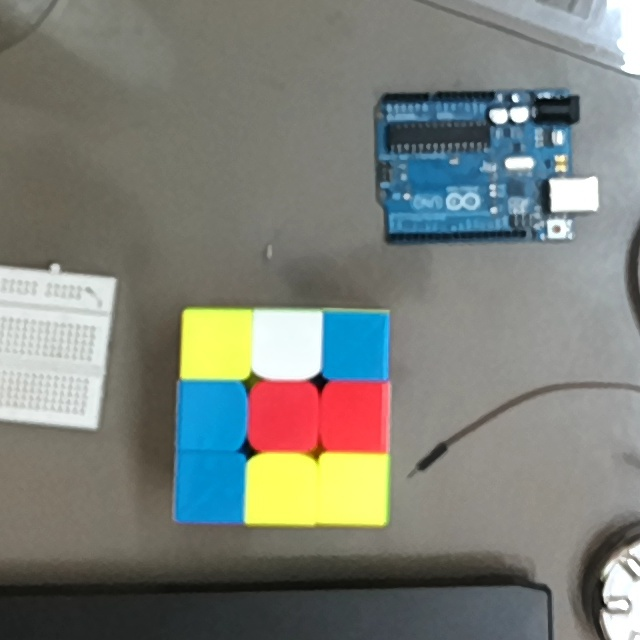tile: (329, 387, 387, 449), (187, 316, 247, 375), (328, 313, 384, 375), (181, 459, 241, 516), (325, 459, 382, 518), (256, 388, 312, 447), (259, 315, 315, 372), (253, 462, 310, 518), (185, 385, 240, 442)
